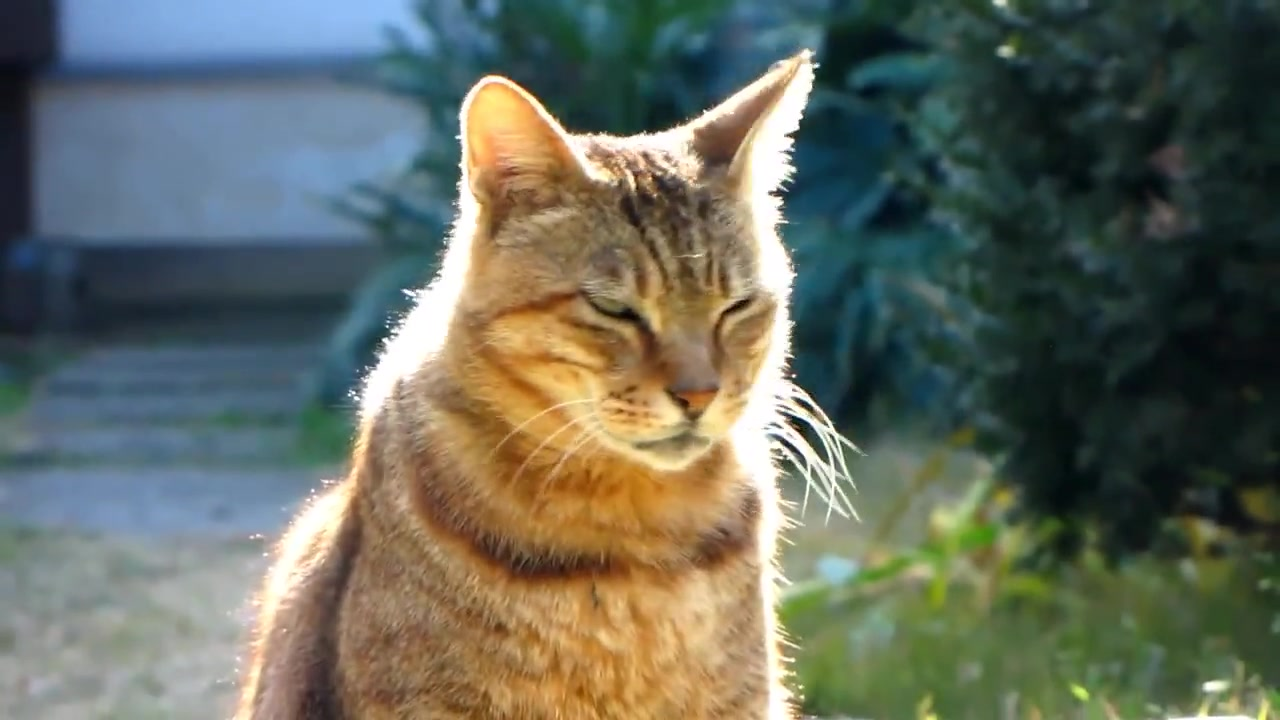cat: (235, 49, 840, 720)
